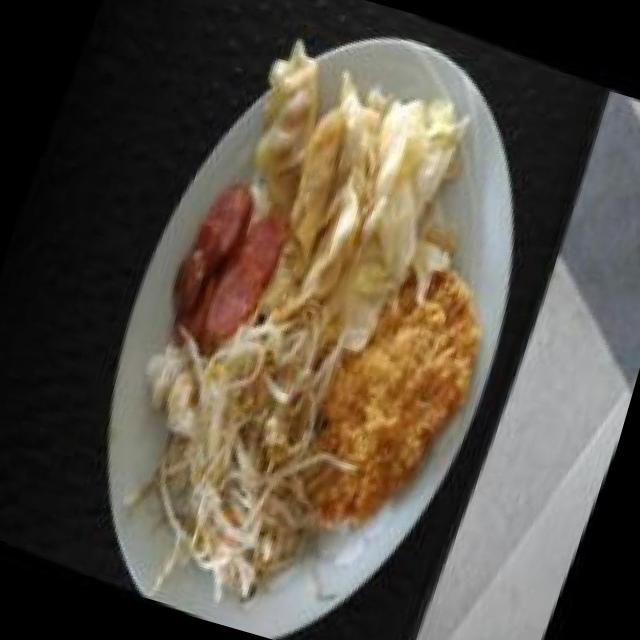chinese_cabbage: (319, 83, 472, 328)
chinese_sausage: (146, 162, 304, 366)
fried_chicken: (286, 238, 510, 552)
fried_dumplings: (196, 17, 415, 294)
mung_bean_sprouts: (146, 281, 355, 598)
rice: (122, 314, 222, 447)
